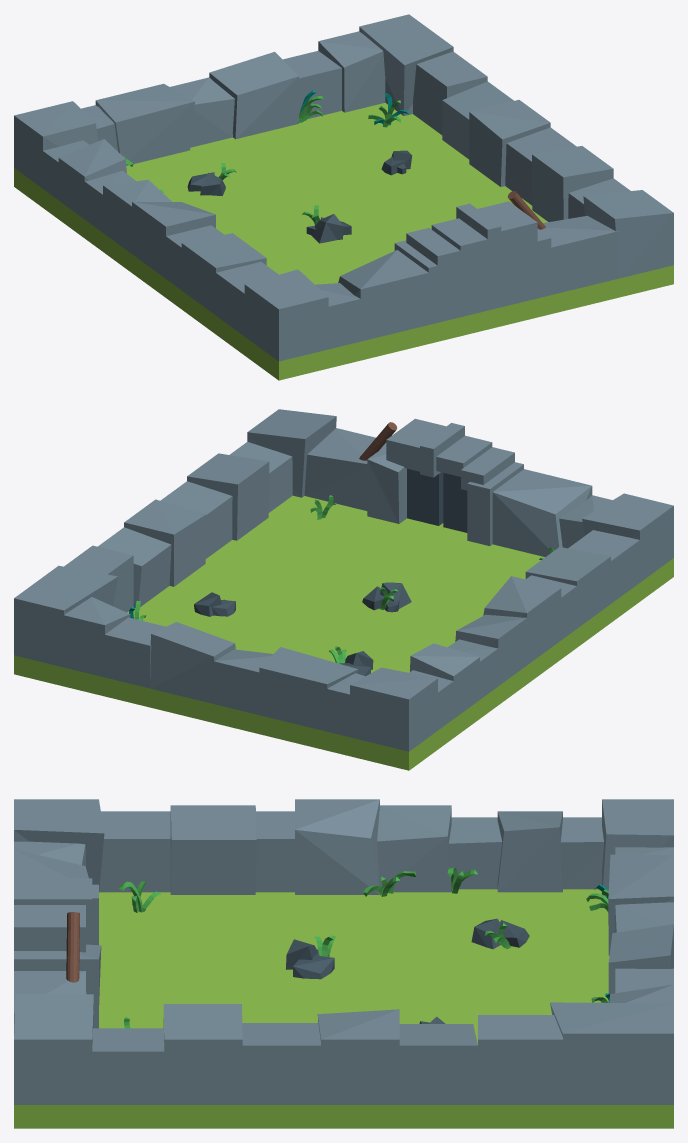
The model's file is Yard.glb.
The picture shows the model from 3 angles, top to bottom: view 1: azimuth 30°, elevation 25°; view 2: azimuth 150°, elevation 25°; view 3: azimuth 270°, elevation 25°; orthographic projection. The views are drawn at different scales.
Parts seen in each view (by area): view 1: group525022646, group724564917, group1714006084, group1351470737, group292345234, group212989599, group62380458, group233523110, group1425573687, group655487144, group503165988, group1650868143 (+24 smaller); view 2: group525022646, group655487144, group1714006084, group1425573687, group1351470737, group212989599, group724564917, group62380458, group503165988, group1650868143, group414916774, group292345234 (+24 smaller); view 3: group525022646, group1425573687, group292345234, group503165988, group414916774, group978476624, group1045759265, group1650868143, group1761446230, group329624868, group524906768, group1705780072 (+24 smaller).
Boxes of the visible parts, <box> form: group525022646: <box>14,102,673,380</box>; group724564917: <box>244,269,328,361</box>; group1714006084: <box>338,250,428,341</box>; group1351470737: <box>95,83,194,165</box>; group292345234: <box>583,190,673,278</box>; group212989599: <box>209,51,298,139</box>; group62380458: <box>540,215,619,294</box>; group233523110: <box>437,247,530,322</box>; group1425573687: <box>359,14,453,115</box>; group655487144: <box>14,101,97,188</box>; group503165988: <box>532,146,613,221</box>; group1650868143: <box>469,100,550,186</box>; group525022646: <box>14,495,673,770</box>; group655487144: <box>350,667,437,751</box>; group1714006084: <box>492,469,592,557</box>; group1425573687: <box>14,565,117,667</box>; group1351470737: <box>259,647,358,731</box>; group212989599: <box>150,622,235,703</box>; group724564917: <box>582,493,673,582</box>; group62380458: <box>304,428,386,510</box>; group503165988: <box>187,453,269,540</box>; group1650868143: <box>124,499,206,586</box>; group414916774: <box>483,576,561,664</box>; group292345234: <box>247,409,336,497</box>; group525022646: <box>14,889,673,1128</box>; group1425573687: <box>550,1002,673,1104</box>; group292345234: <box>14,994,93,1104</box>; group503165988: <box>163,1004,242,1104</box>; group414916774: <box>295,799,379,894</box>; group978476624: <box>170,805,256,894</box>; group1045759265: <box>478,1015,562,1104</box>; group1650868143: <box>317,1009,399,1104</box>; group1761446230: <box>242,1023,320,1104</box>; group329624868: <box>399,1024,477,1104</box>; group524906768: <box>377,805,451,892</box>; group1705780072: <box>92,1028,164,1104</box>.
Bounding box in the file's own units: 0.87 × 0.2282 × 1.01.
